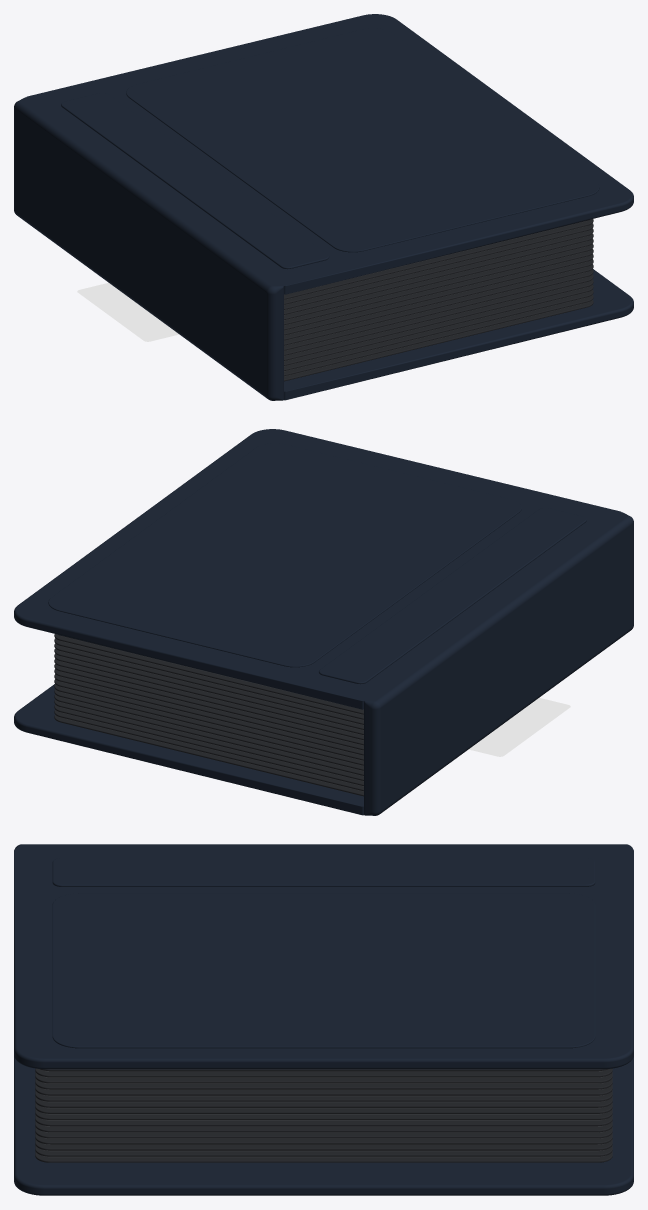
File: album-19h.glb
The picture shows the model from 3 angles, top to bottom: view 1: azimuth 30°, elevation 25°; view 2: azimuth 150°, elevation 25°; view 3: azimuth 270°, elevation 25°; orthographic projection. The views are drawn at different scales.
Parts seen in each view (by area): view 1: Tapa_Panel, Lomo, Tapa_Malla, Tapa_Banda, Contratapa, Plantilla_Carta_F, Hoja_3_Losa, Hoja_9_Losa, Hoja_17_Losa, Hoja_4_Losa, Hoja_7_Losa, Hoja_8_Losa (+11 smaller); view 2: Tapa_Panel, Lomo, Tapa_Malla, Tapa_Banda, Contratapa, Plantilla_Carta_F, Hoja_3_Losa, Hoja_9_Losa, Hoja_17_Losa, Hoja_4_Losa, Hoja_7_Losa, Hoja_8_Losa (+11 smaller); view 3: Tapa_Panel, Tapa_Malla, Contratapa, Tapa_Banda, Hoja_9_Losa, Hoja_18_Losa, Hoja_8_Losa, Hoja_5_Losa, Hoja_6_Losa, Hoja_7_Losa, Hoja_15_Losa, Hoja_16_Losa (+9 smaller).
Boxes of the visible parts, x1,y1,x2,y2 form: Tapa_Panel: [126, 28, 599, 252]; Lomo: [14, 97, 283, 400]; Tapa_Malla: [26, 14, 633, 294]; Tapa_Banda: [61, 93, 328, 269]; Contratapa: [284, 269, 633, 400]; Plantilla_Carta_F: [77, 282, 179, 341]; Hoja_3_Losa: [284, 223, 593, 304]; Hoja_9_Losa: [284, 254, 593, 335]; Hoja_17_Losa: [284, 294, 593, 376]; Hoja_4_Losa: [284, 228, 593, 309]; Hoja_7_Losa: [284, 243, 593, 325]; Hoja_8_Losa: [284, 249, 593, 330]; Tapa_Panel: [48, 443, 521, 667]; Lomo: [364, 512, 633, 815]; Tapa_Malla: [14, 429, 621, 709]; Tapa_Banda: [319, 508, 586, 684]; Contratapa: [14, 684, 363, 815]; Plantilla_Carta_F: [468, 697, 570, 756]; Hoja_3_Losa: [54, 638, 363, 719]; Hoja_9_Losa: [54, 669, 363, 750]; Hoja_17_Losa: [54, 709, 363, 791]; Hoja_4_Losa: [54, 643, 363, 724]; Hoja_7_Losa: [54, 658, 363, 740]; Hoja_8_Losa: [54, 664, 363, 745]; Tapa_Panel: [52, 893, 595, 1048]; Tapa_Malla: [14, 850, 633, 1069]; Contratapa: [14, 1056, 633, 1195]; Tapa_Banda: [52, 858, 595, 886]; Hoja_9_Losa: [35, 1096, 612, 1107]; Hoja_18_Losa: [35, 1151, 612, 1162]; Hoja_8_Losa: [35, 1090, 612, 1101]; Hoja_5_Losa: [35, 1072, 612, 1083]; Hoja_6_Losa: [35, 1078, 612, 1089]; Hoja_7_Losa: [35, 1084, 612, 1095]; Hoja_15_Losa: [35, 1133, 612, 1144]; Hoja_16_Losa: [35, 1139, 612, 1150].
Size of the model in its own units: 0.2895 by 0.0797 by 0.322.
